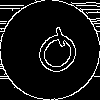Q: (25, 25, 86, 87)
